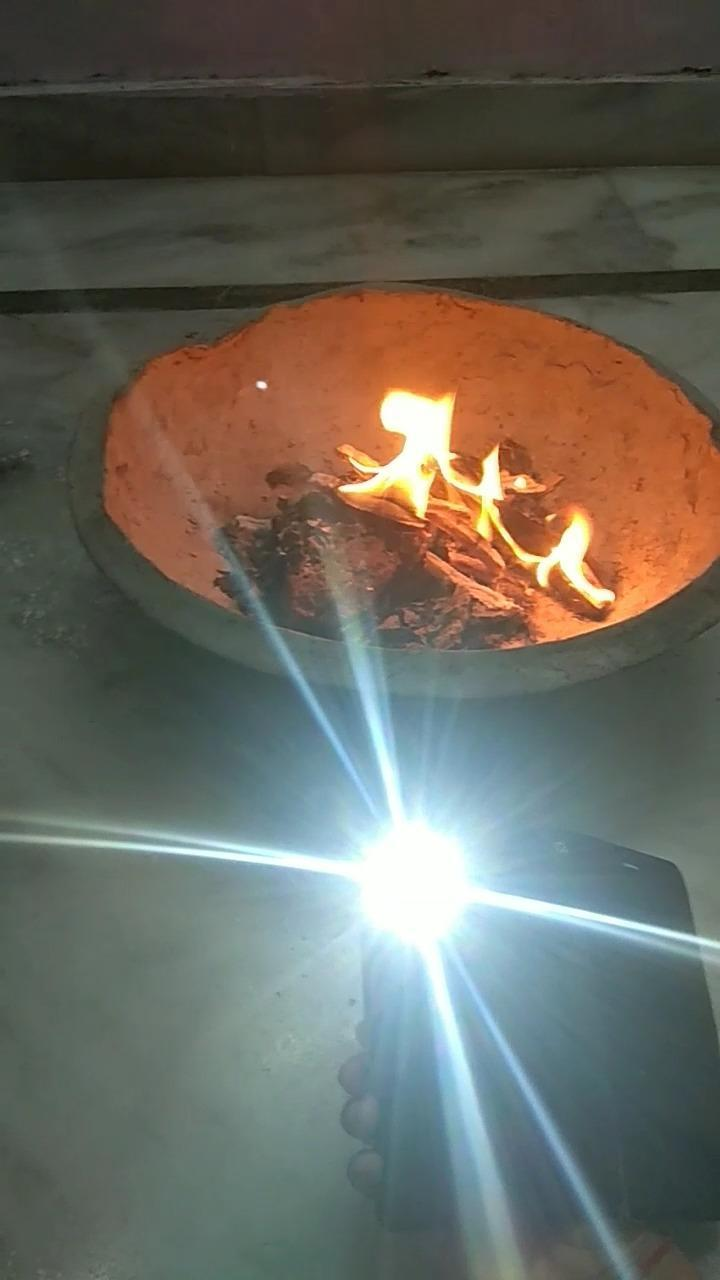fire: (331, 370, 514, 534), (523, 490, 627, 620)
